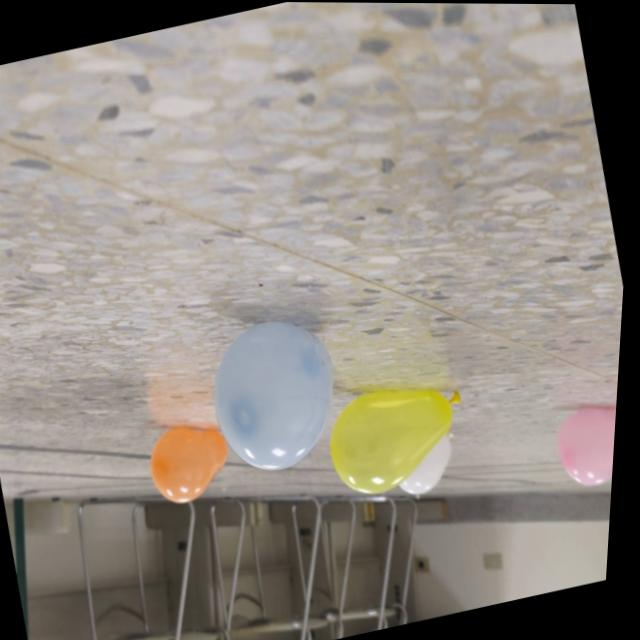other: (201, 306, 361, 483), (323, 369, 484, 499), (146, 413, 246, 511), (554, 396, 622, 495), (393, 427, 473, 500)
